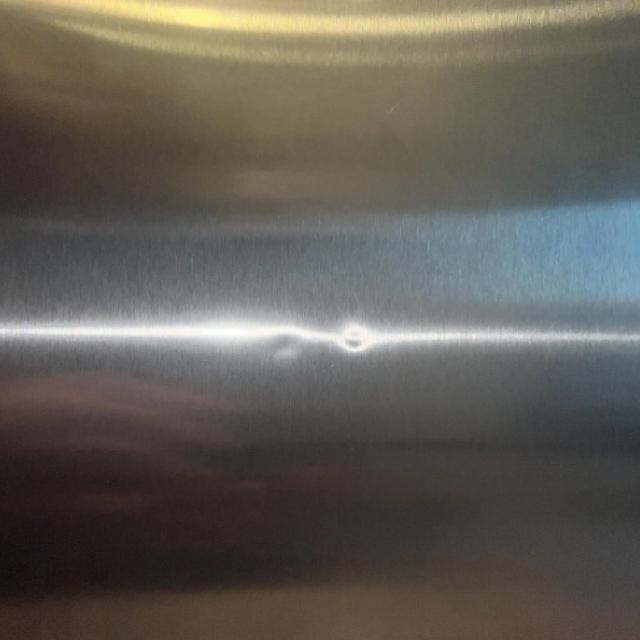dents: (334, 321, 396, 376), (263, 330, 313, 360)
